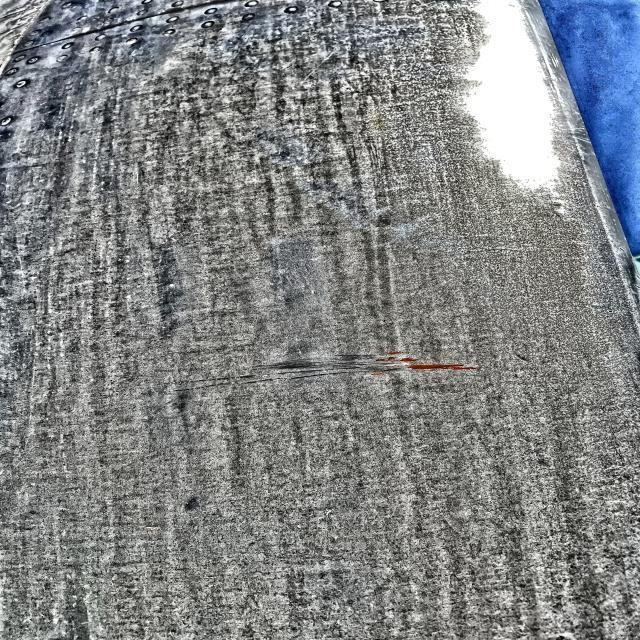crack: (136, 360, 431, 390)
